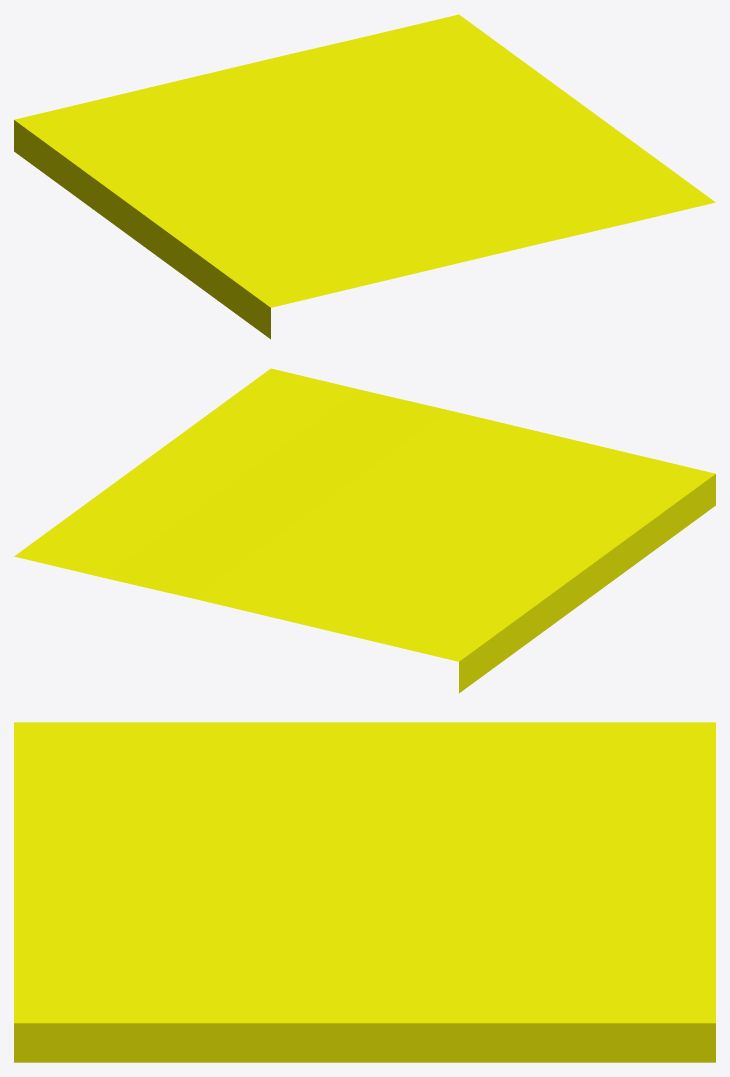
The model's file is roof-wooden-2x1-middle.glb.
The picture shows the model from 3 angles, top to bottom: view 1: azimuth 30°, elevation 25°; view 2: azimuth 150°, elevation 25°; view 3: azimuth 270°, elevation 25°; orthographic projection. The views are drawn at different scales.
Parts seen in each view (by area): view 1: Roof_Wooden_2x1_Middle; view 2: Roof_Wooden_2x1_Middle; view 3: Roof_Wooden_2x1_Middle.
Part boxes in pixels (x1=…): Roof_Wooden_2x1_Middle: x1=14, y1=14, x2=715, y2=339; Roof_Wooden_2x1_Middle: x1=14, y1=368, x2=715, y2=693; Roof_Wooden_2x1_Middle: x1=14, y1=722, x2=715, y2=1062.
Bounding box in the file's own units: 2 × 0.1379 × 2.
1 material, 1 textured.
